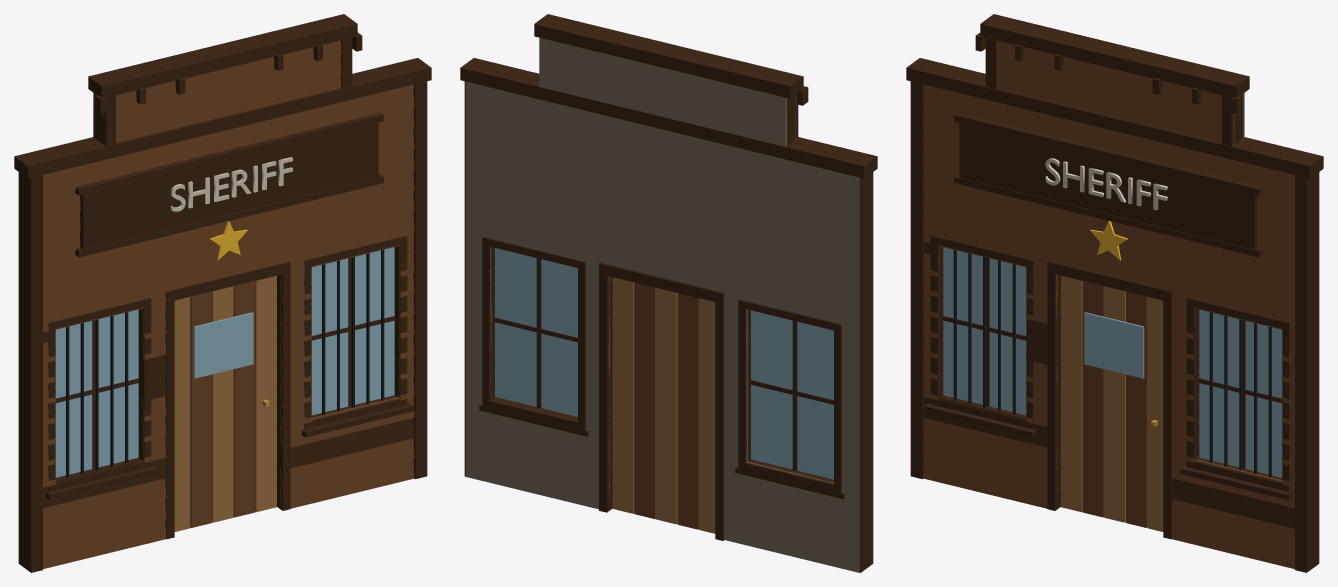
File: SM_Facade_Sheriff.obj
3 views of the same model, side by side, from view 1: azimuth 30°, elevation 25°; view 2: azimuth 150°, elevation 25°; view 3: azimuth 330°, elevation 25° (orthographic).
Parts seen in each view (by area): view 1: SM_Facade_Sheriff; view 2: SM_Facade_Sheriff; view 3: SM_Facade_Sheriff.
Boxes of the visible parts, box(x1,y1,x2,y2) form: SM_Facade_Sheriff: box(14, 14, 431, 572); SM_Facade_Sheriff: box(460, 14, 877, 572); SM_Facade_Sheriff: box(906, 14, 1323, 572).
Bounding box in the file's own units: 4.1 × 4.56 × 0.305.
